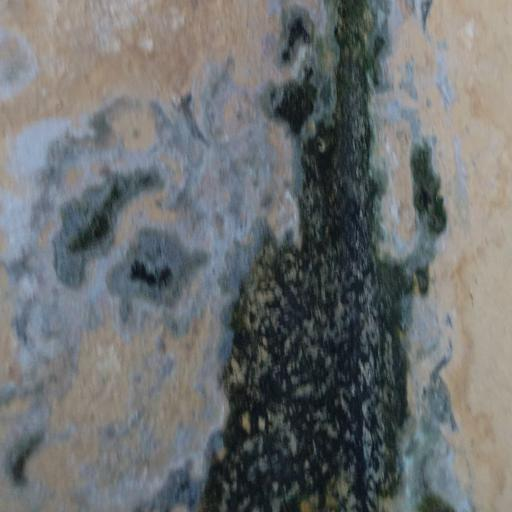algae: (66, 15, 512, 512)
